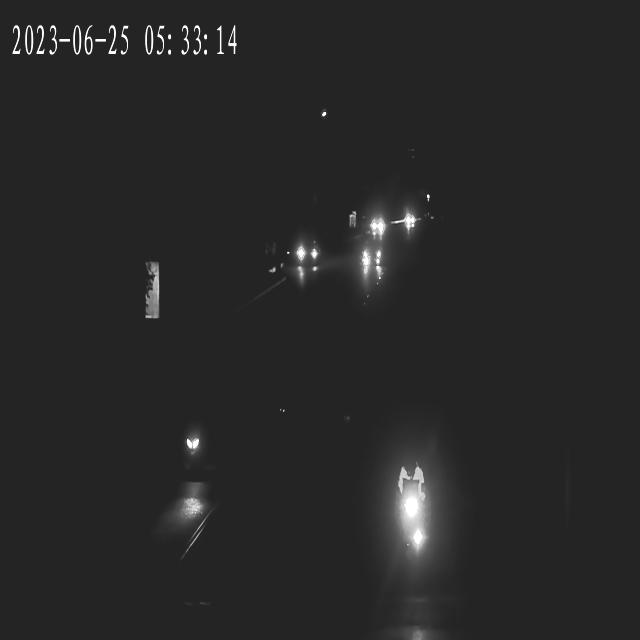Car: (292, 236, 319, 277), (399, 205, 421, 242), (360, 246, 382, 279), (368, 214, 391, 242)
Motorcycle: (392, 447, 436, 598), (181, 405, 212, 511)
